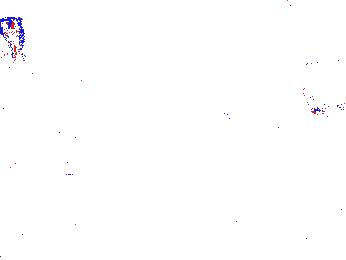X-ray fish: (1, 15, 28, 60)
glassfish: (206, 94, 309, 159)
red belly glassfish: (301, 57, 344, 72), (308, 104, 344, 118)
redtail glassfish: (284, 3, 346, 26), (70, 1, 145, 18)
